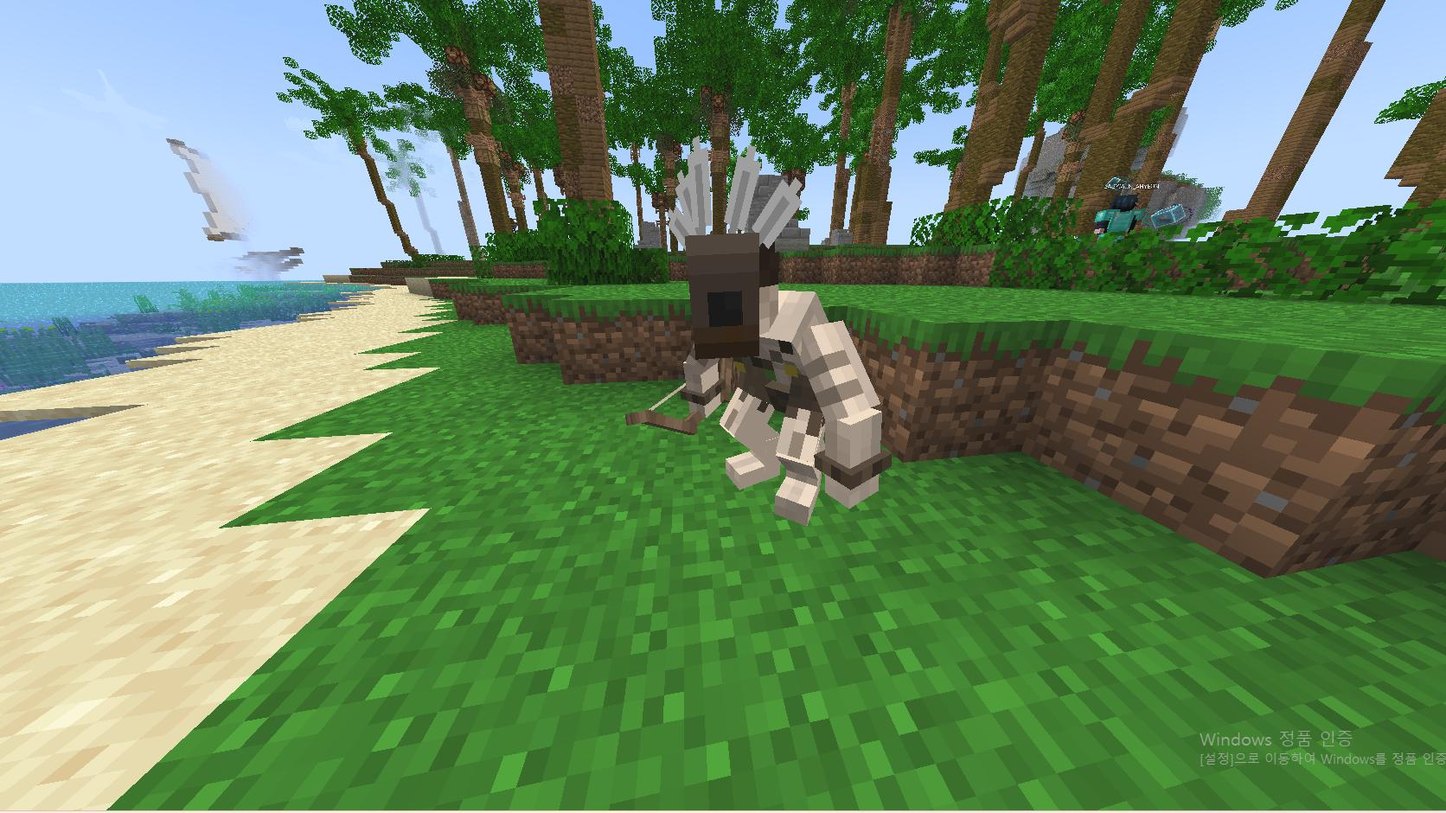bow_indian: (626, 211, 889, 523)
